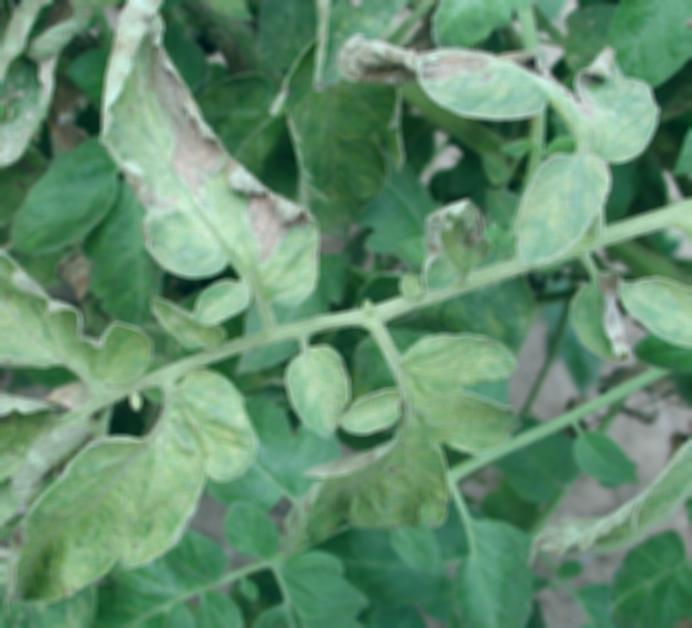Tomato mold leaf: (95, 0, 325, 309), (2, 361, 260, 609), (341, 22, 670, 154), (0, 201, 157, 390), (504, 150, 620, 274), (282, 340, 364, 440), (415, 196, 493, 296), (615, 278, 692, 357), (335, 385, 421, 439)
